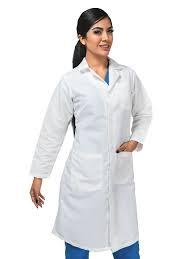Bata-Correcta: (31, 9, 151, 258)
